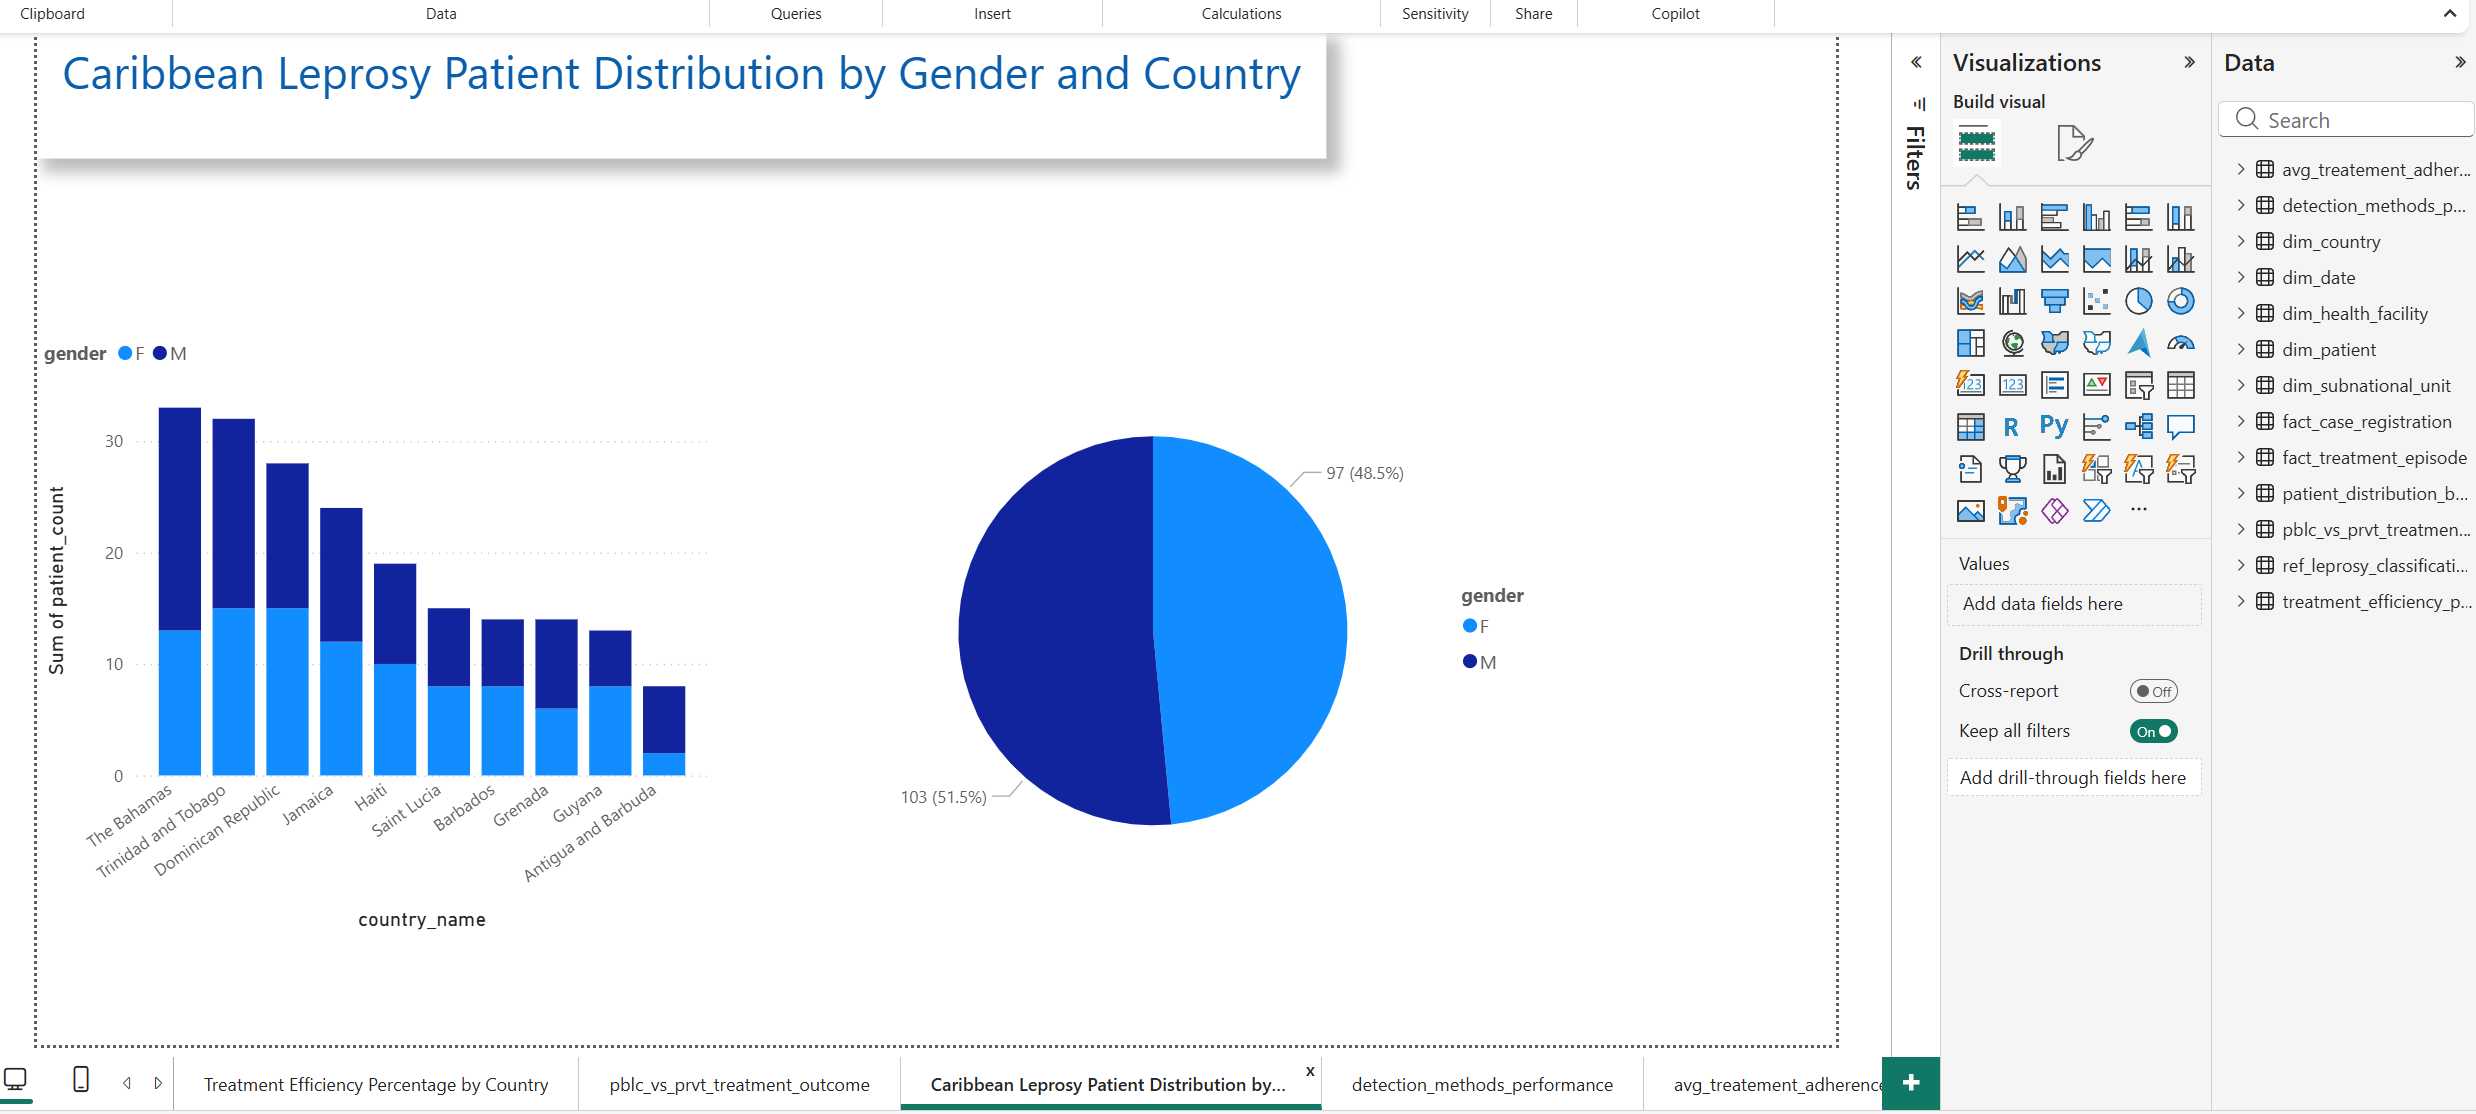

The page's visual inventory and layout, read from the dashboard file:
{"tool":"powerbi","page":{"name":"Caribbean Leprosy Patient Distribution by Gender and Country","canvas":[1280,720],"ordinal":2},"visuals":[{"type":"columnChart","fields":{"Category":["patient_distribution_by_gender_and_country.country_name"],"Series":["patient_distribution_by_gender_and_country.gender"],"Y":["Sum(patient_distribution_by_gender_and_country.patient_count)"]},"box":[0,207.3,481.8,435.8],"z":0},{"type":"textbox","box":[0,0,917.6,89.5],"z":1000},{"type":"pieChart","fields":{"Series":["patient_distribution_by_gender_and_country.gender"],"Y":["Sum(patient_distribution_by_gender_and_country.patient_count)"]},"box":[568.9,207.3,513.6,435.8],"z":2000}]}

Visuals, with their boxes on the page's 1280x720 design canvas (x1, y1, x2, y2). These are canvas units, not pixel positions in the 2476x1114 screenshot, which may show the page scaled, cropped or inside an application window:
columnChart - patient_distribution_by_gender_and_country.country_name x patient_distribution_by_gender_and_country.gender: l=0, t=207, r=482, b=643
textbox: l=0, t=0, r=918, b=90
pieChart - patient_distribution_by_gender_and_country.gender x Sum(patient_distribution_by_gender_and_country.patient_count): l=569, t=207, r=1082, b=643
